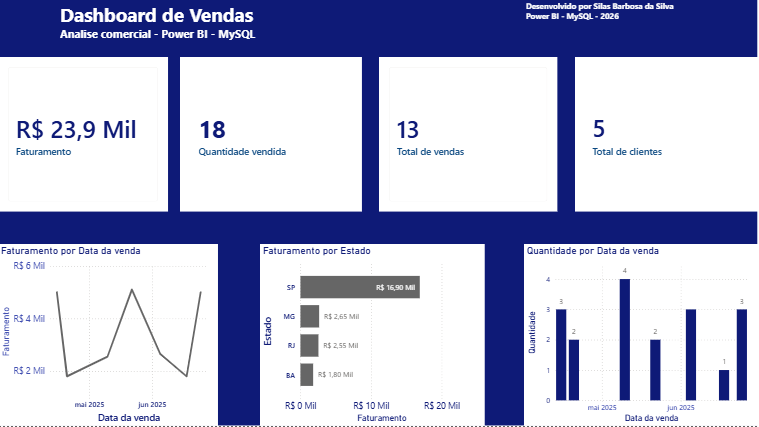

The dashboard page shown, as its layout file describes it:
{"tool":"powerbi","page":{"name":"Visão geral","canvas":[1280,720],"ordinal":0},"visuals":[{"type":"shape","box":[0,0,1278,720],"z":0},{"type":"cardVisual","fields":{"Data":["Sum(itens_vendas.Quantidade)"]},"box":[306.7,100,306,260],"z":1000},{"type":"cardVisual","fields":{"Data":["Sum(itens_vendas.Faturamento)"]},"box":[0,100,286,260],"z":2000},{"type":"cardVisual","fields":{"Data":["CountNonNull(itens_vendas.id_venda)"]},"box":[640,100,300,260],"z":3000},{"type":"cardVisual","fields":{"Data":["CountNonNull(clientes.id_cliente)"]},"box":[970,100,310,260],"z":4000},{"type":"lineChart","fields":{"Category":["vendas.Data da venda.Variation.Hierarquia de datas.Mês"],"Y":["Sum(itens_vendas.Faturamento)"]},"box":[0,414,370,306],"z":5000},{"type":"barChart","fields":{"Y":["Sum(itens_vendas.Faturamento)"],"Category":["estado.Estado"]},"box":[440,414,378,306],"z":6000},{"type":"textbox","box":[100,0,540,100],"z":7000},{"type":"textbox","box":[883.3,0,393.3,83.3],"z":8000},{"type":"clusteredColumnChart","fields":{"Y":["Sum(itens_vendas.Quantidade)"],"Category":["vendas.Data da venda.Variation.Hierarquia de datas.Mês"]},"box":[884,414,396,306],"z":9000}]}

Visuals, with their boxes in screenshot pixels (x1, y1, x2, y2), scaled from the page's 1280x720 canvas onto the 759x427 screenshot:
shape: {"x1": 0, "y1": 0, "x2": 758, "y2": 426}
cardVisual - Sum(itens_vendas.Quantidade): {"x1": 182, "y1": 59, "x2": 363, "y2": 214}
cardVisual - Sum(itens_vendas.Faturamento): {"x1": 0, "y1": 59, "x2": 170, "y2": 214}
cardVisual - CountNonNull(itens_vendas.id_venda): {"x1": 380, "y1": 59, "x2": 557, "y2": 214}
cardVisual - CountNonNull(clientes.id_cliente): {"x1": 575, "y1": 59, "x2": 758, "y2": 214}
lineChart - vendas.Data da venda.Variation.Hierarquia de datas.Mês x Sum(itens_vendas.Faturamento): {"x1": 0, "y1": 246, "x2": 219, "y2": 426}
barChart - Sum(itens_vendas.Faturamento) x estado.Estado: {"x1": 261, "y1": 246, "x2": 485, "y2": 426}
textbox: {"x1": 59, "y1": 0, "x2": 380, "y2": 59}
textbox: {"x1": 524, "y1": 0, "x2": 757, "y2": 49}
clusteredColumnChart - Sum(itens_vendas.Quantidade) x vendas.Data da venda.Variation.Hierarquia de datas.Mês: {"x1": 524, "y1": 246, "x2": 758, "y2": 426}
